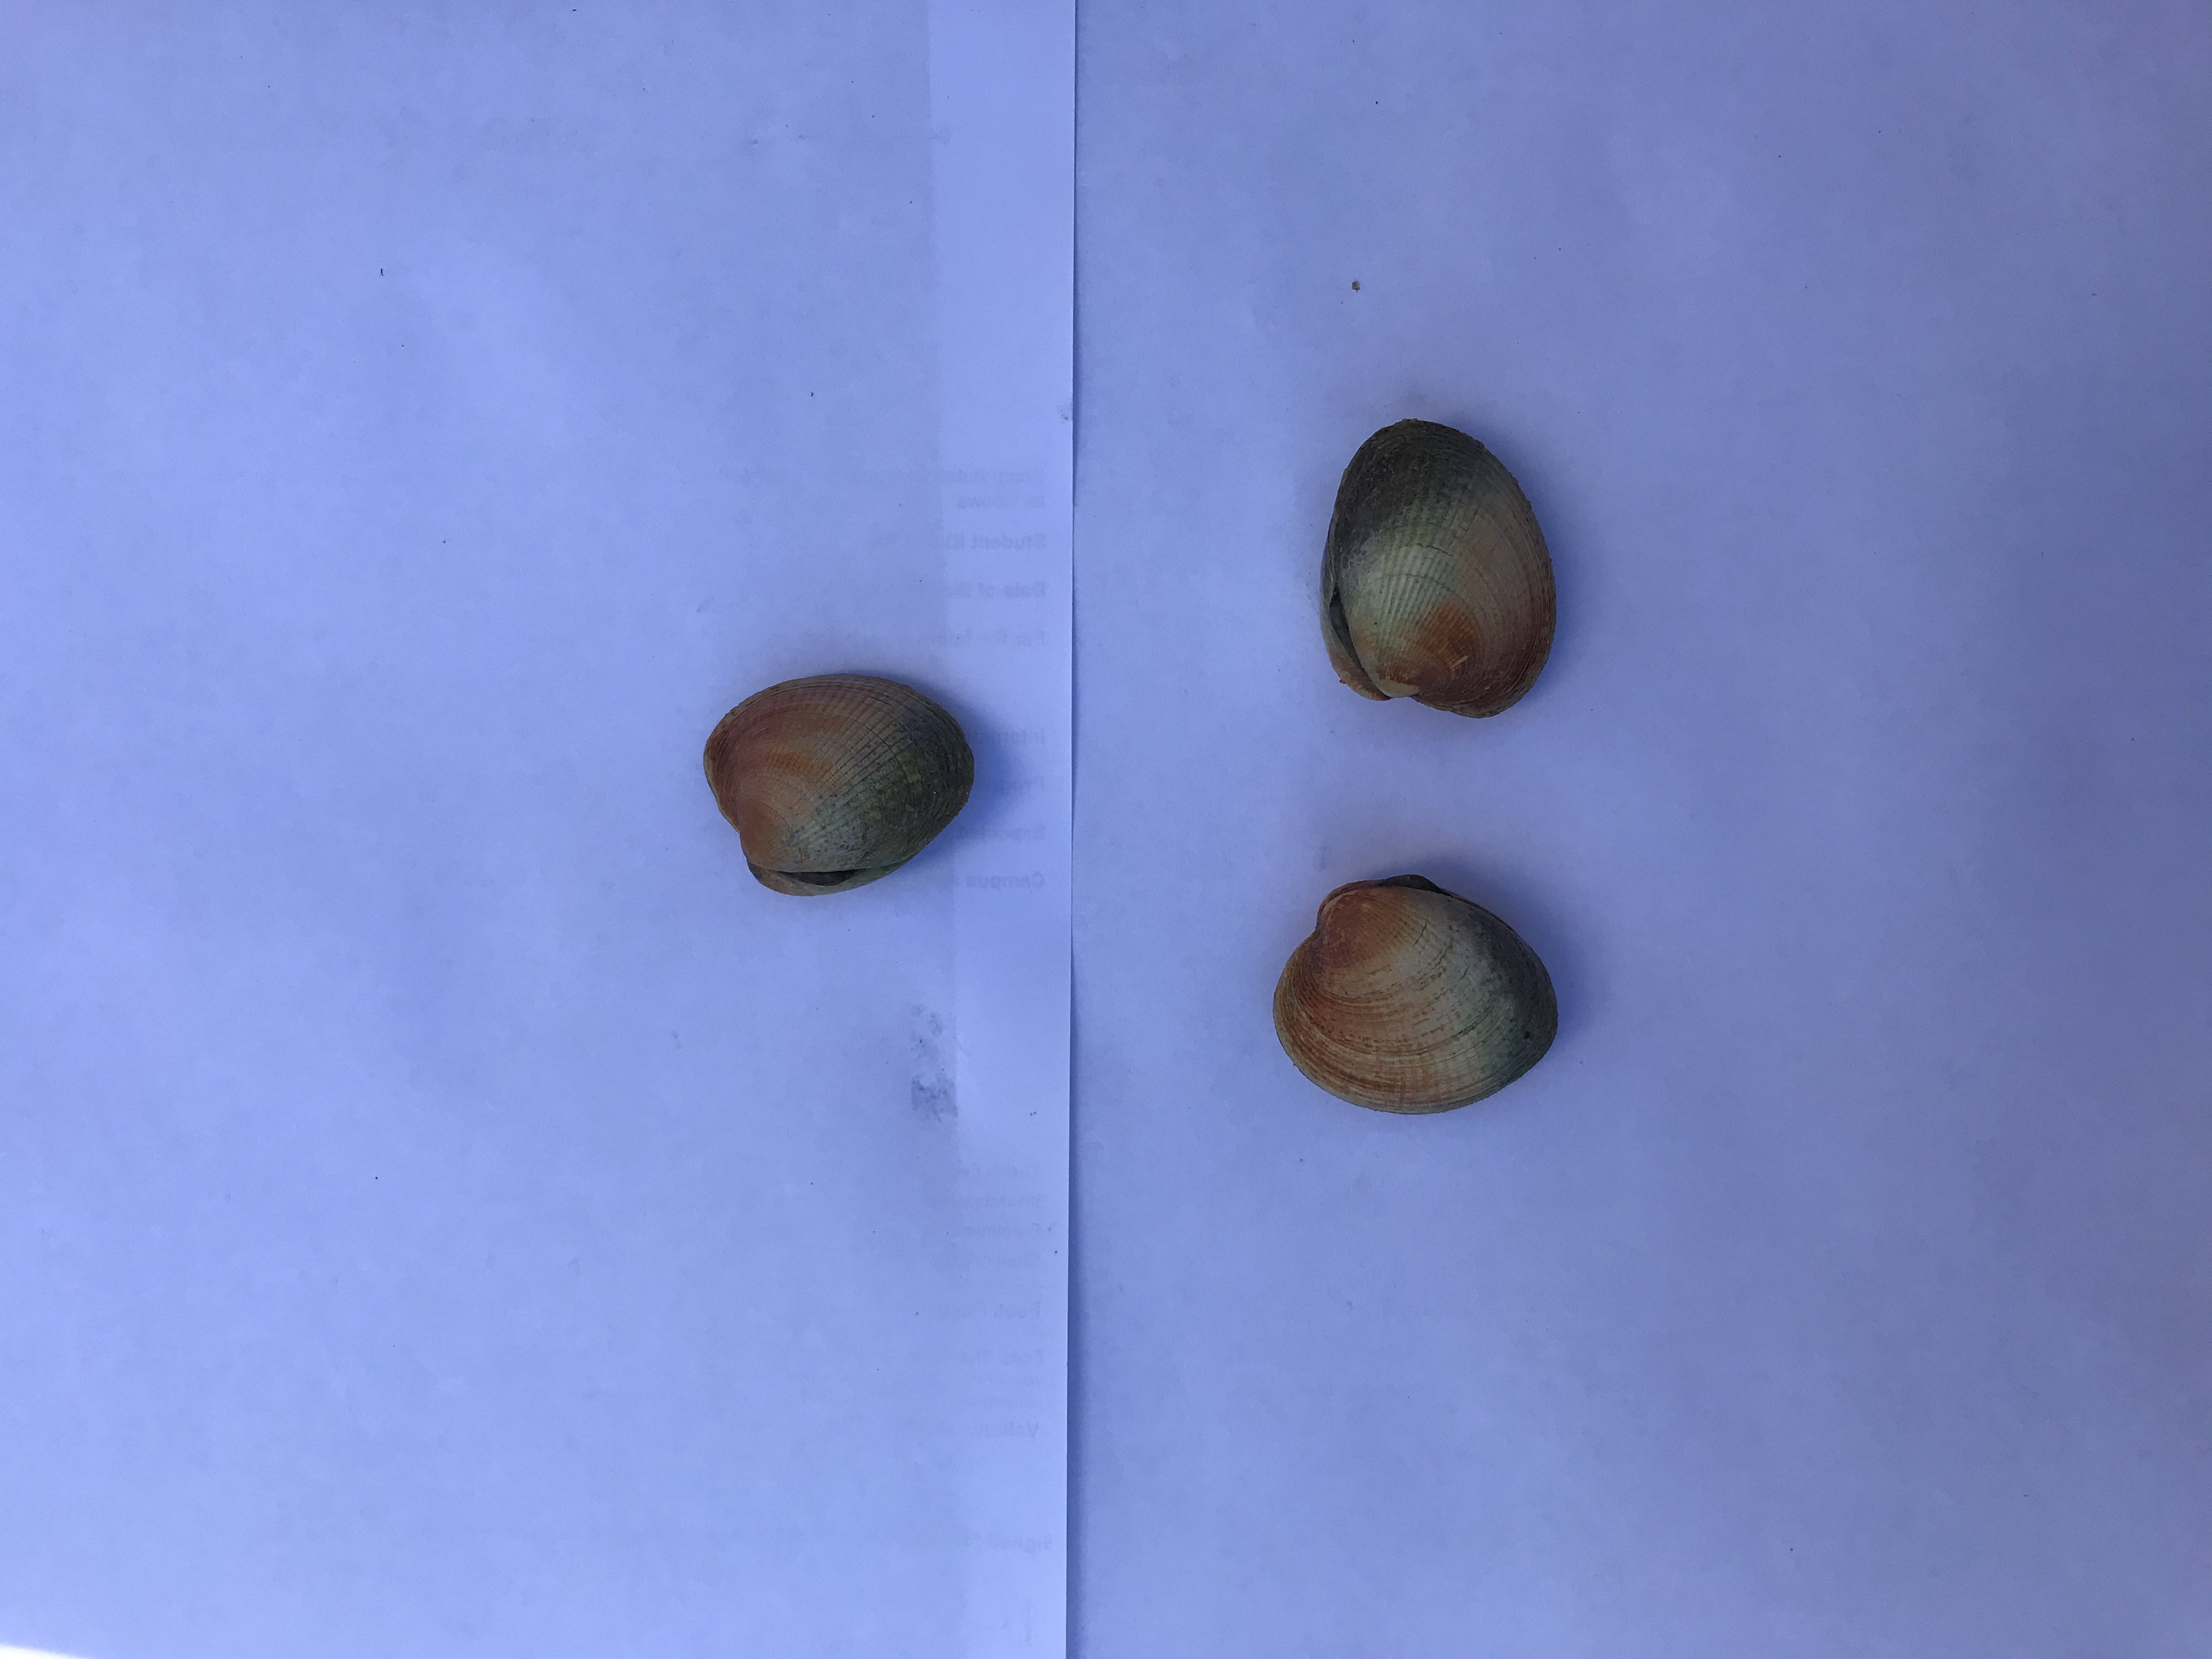cockle: (1320, 413, 1557, 721), (1273, 877, 1561, 1119), (705, 667, 975, 897)
